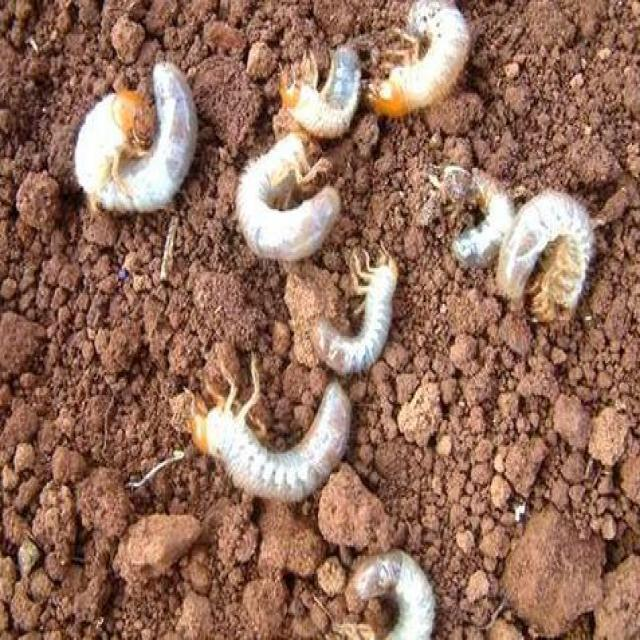Grub-Adult-: (190, 345, 373, 513), (58, 62, 207, 237), (228, 124, 347, 268), (306, 241, 411, 387), (497, 178, 598, 327), (366, 1, 480, 115), (347, 545, 452, 635), (442, 158, 519, 273), (281, 43, 365, 141)
